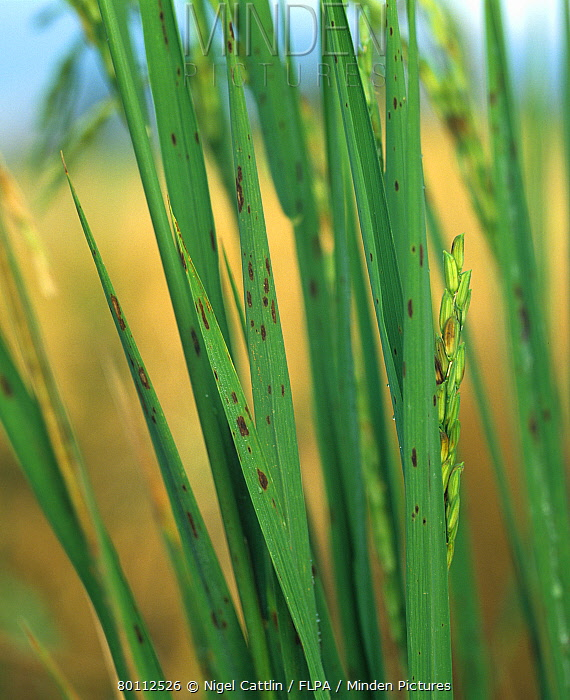Bercak Coklat: (195, 296, 215, 332), (184, 507, 199, 543), (186, 326, 202, 356), (232, 415, 251, 440), (128, 623, 144, 648), (255, 467, 270, 491), (244, 261, 258, 283), (408, 446, 420, 470), (206, 229, 217, 255), (256, 324, 270, 344), (167, 131, 181, 150), (417, 240, 426, 269), (390, 94, 405, 110), (261, 256, 272, 277), (260, 278, 272, 296), (228, 388, 240, 406), (406, 297, 415, 321), (234, 163, 245, 182), (245, 288, 254, 310), (391, 177, 402, 195), (264, 381, 274, 397), (176, 482, 190, 493), (278, 382, 286, 399), (260, 297, 270, 310), (386, 25, 396, 38), (366, 248, 374, 263), (263, 413, 272, 425), (412, 503, 421, 515), (430, 394, 437, 408), (392, 345, 399, 358), (248, 319, 256, 330), (420, 518, 431, 526)
Busuk Leher: (107, 292, 128, 332), (234, 178, 247, 215), (134, 362, 150, 391)
